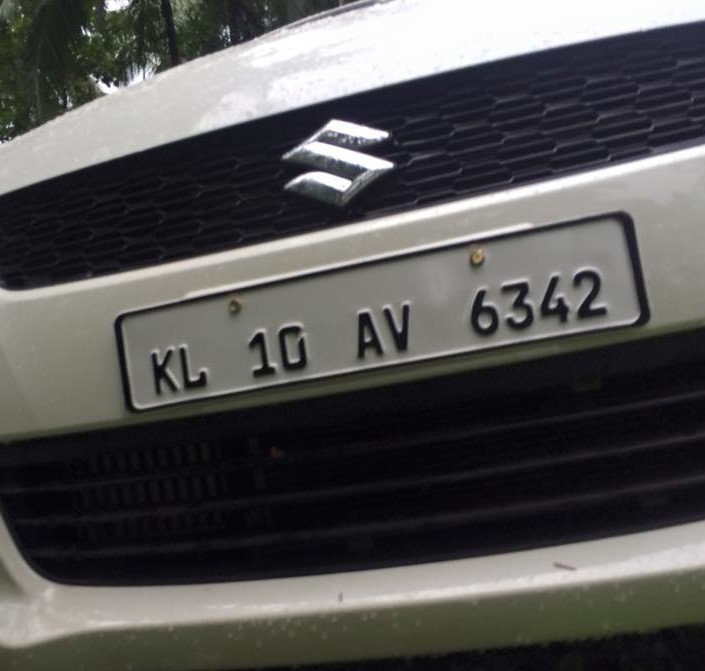KL10AV6342: (118, 216, 643, 413)
